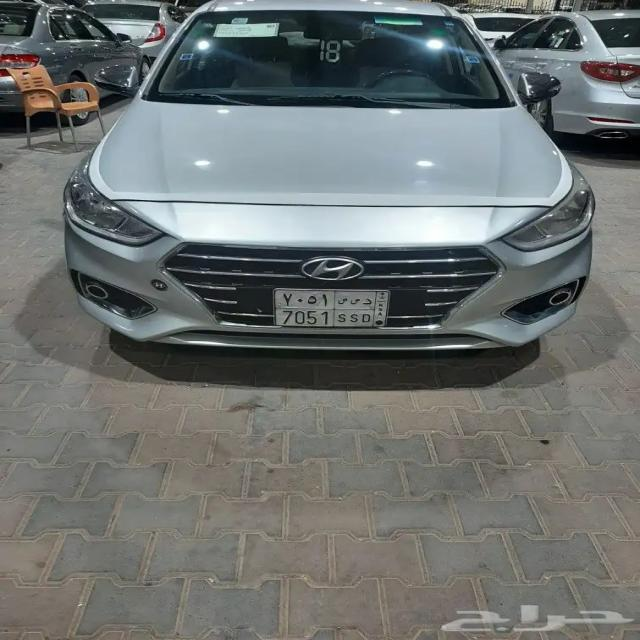license_plate: (274, 307, 375, 327)
